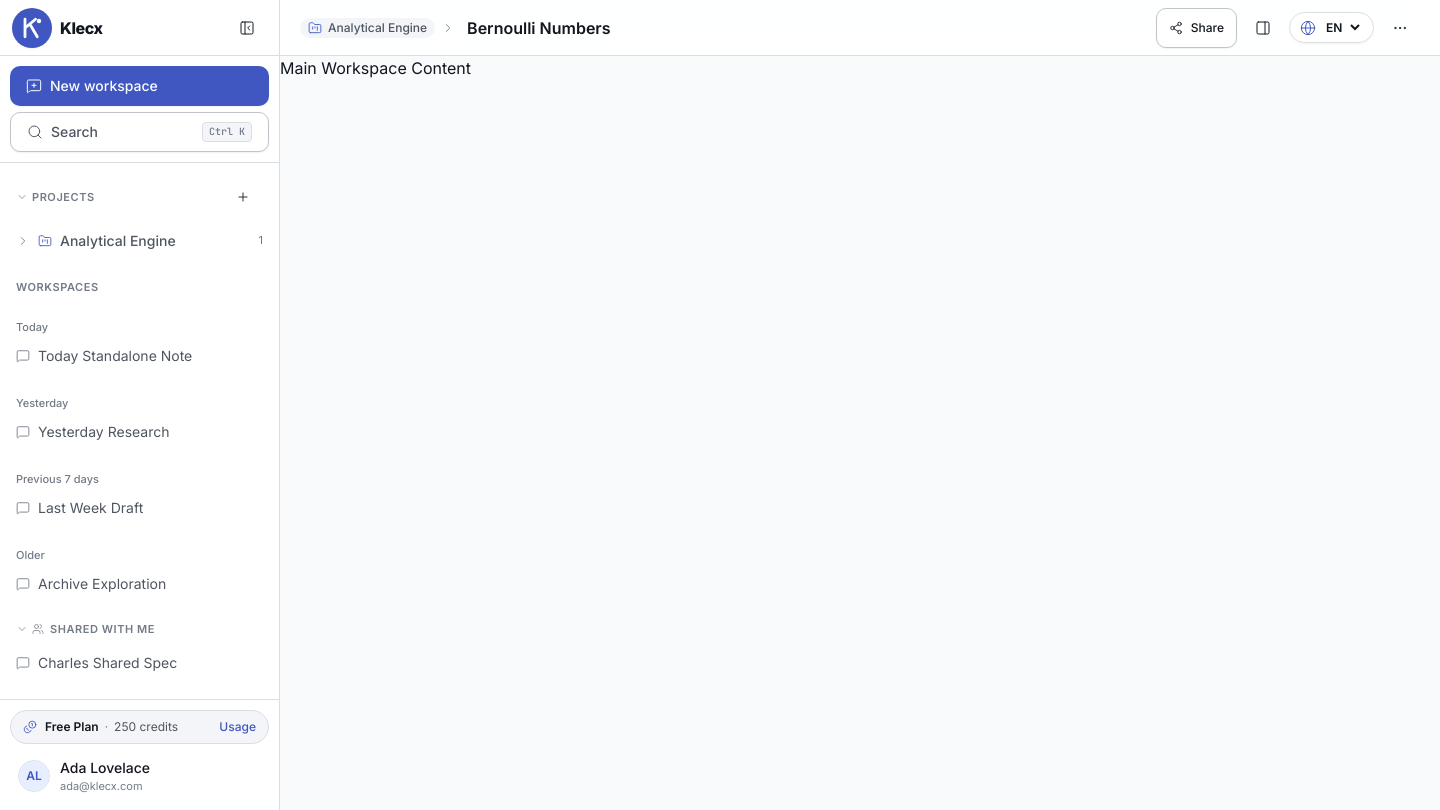
Test: Step 3.4 — AppShell, Sidebar, Topbar, Mobile Drawer & Command Palette › toggles Right Panel (Annotations) and opens mobile drawer Sheet & Command Palette
Click the button named "Toggle annotations panel": click(1263, 28) [1243,8,1283,48]
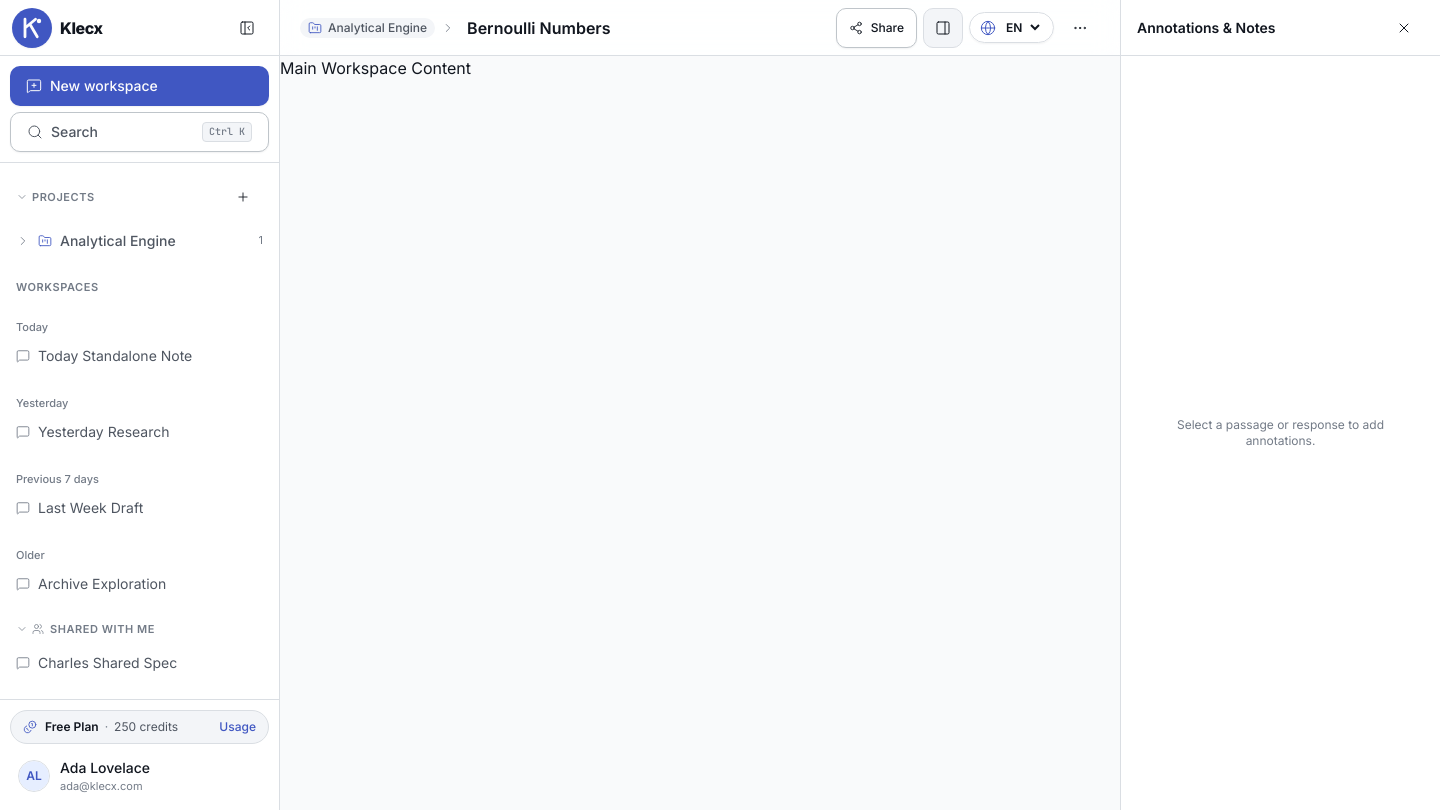
Expected: the element "Annotations & Notes" is shown, [1120,0,1439,809]
# Open Command Palette via Ctrl+K
Press k
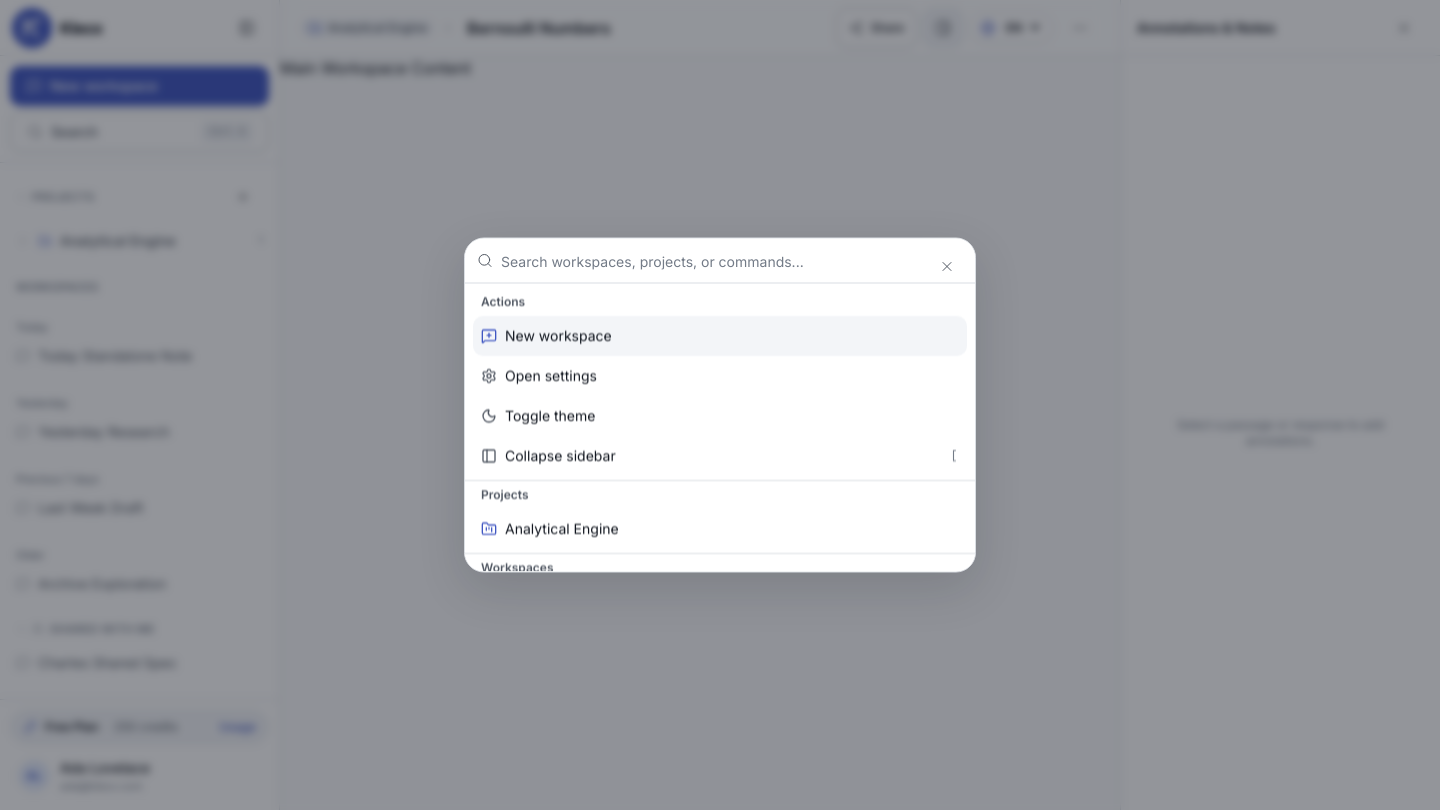
Expected: the dropdown with placeholder "Search workspaces, projects, or commands..." is shown, [501,238,963,282]
